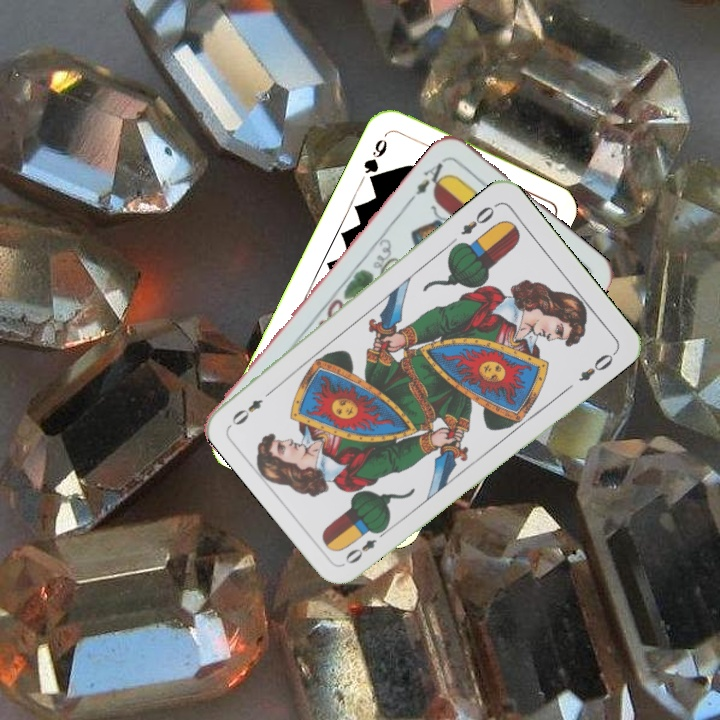EA: (411, 154, 451, 198)
EO: (341, 524, 391, 567), (456, 202, 497, 238)
G9: (359, 135, 390, 186)
